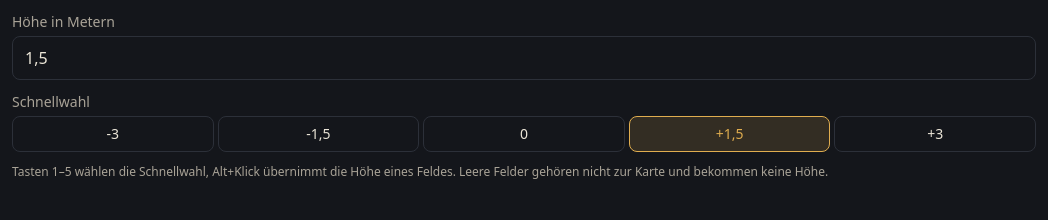
ElevationPanel › says when the value can’t be used and keeps the last good one
The image size is (1048, 220).
Replace the text in the field labelled "Höhe in Metern" with "12000": (524, 58) [12,36,1036,80]
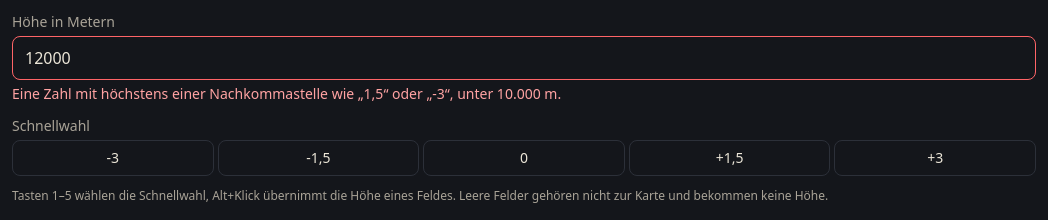
Now the message shows "unter 10.000 m", box [12,84,561,103]
Press Tab
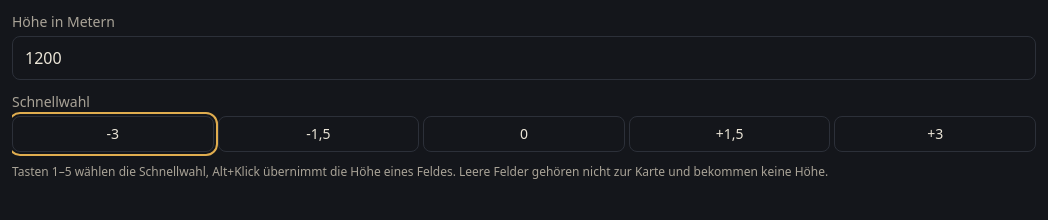
Now the field labelled "Höhe in Metern" holds "1200", box [12,36,1036,80]
Now the message "Eine Zahl mit höchstens einer Nachkommastelle wie „1,5“ oder „-3“, unter 10.000" is gone
